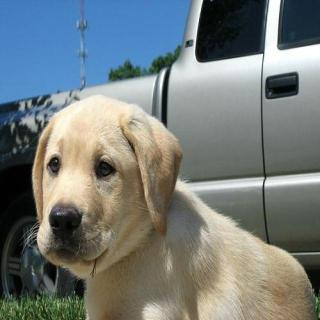dog: (26, 96, 180, 278)
nose: (46, 201, 84, 240)
